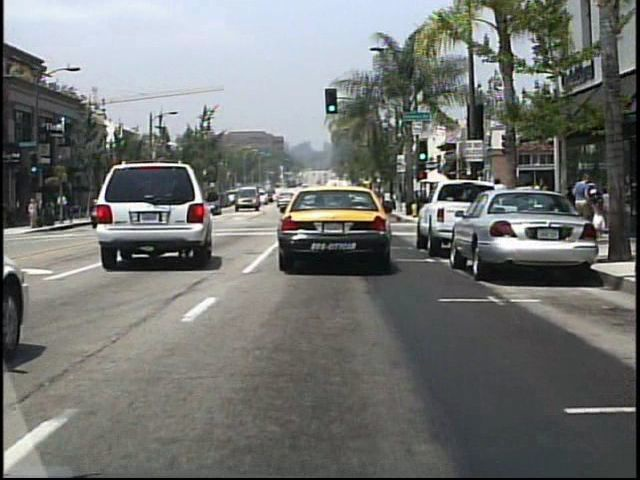person: (573, 172, 594, 234), (535, 176, 556, 237), (589, 193, 608, 238), (28, 195, 41, 231), (58, 190, 70, 222)
